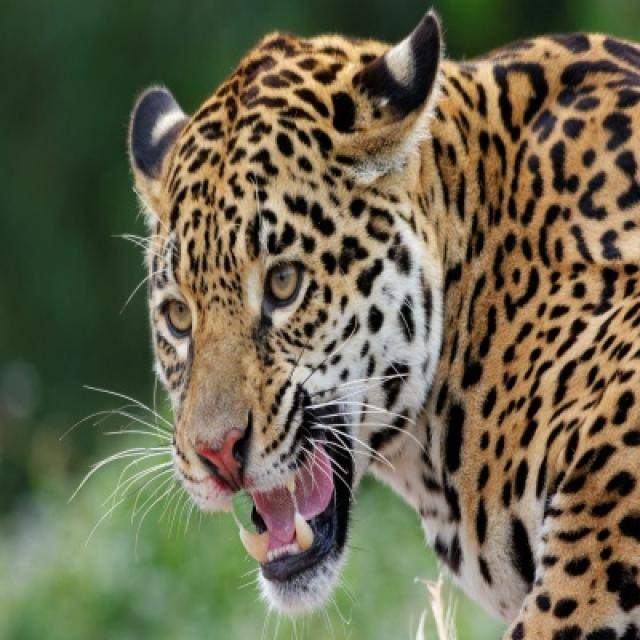Jaguar: (125, 11, 638, 638)
